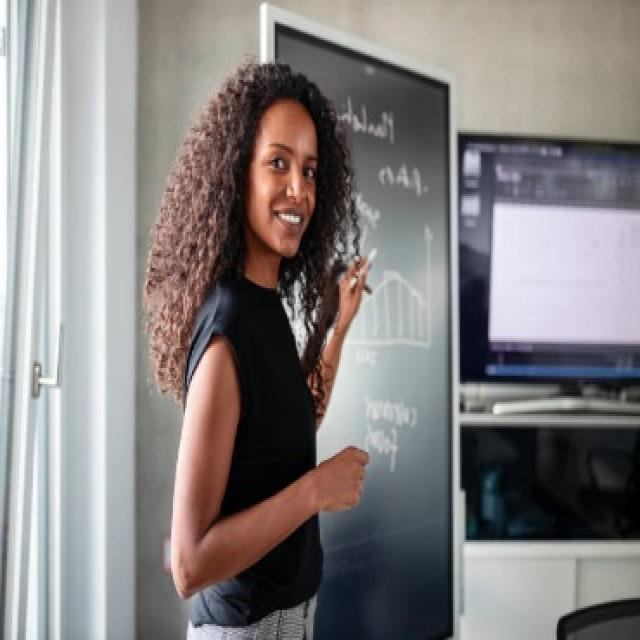adult: (149, 55, 380, 640)
